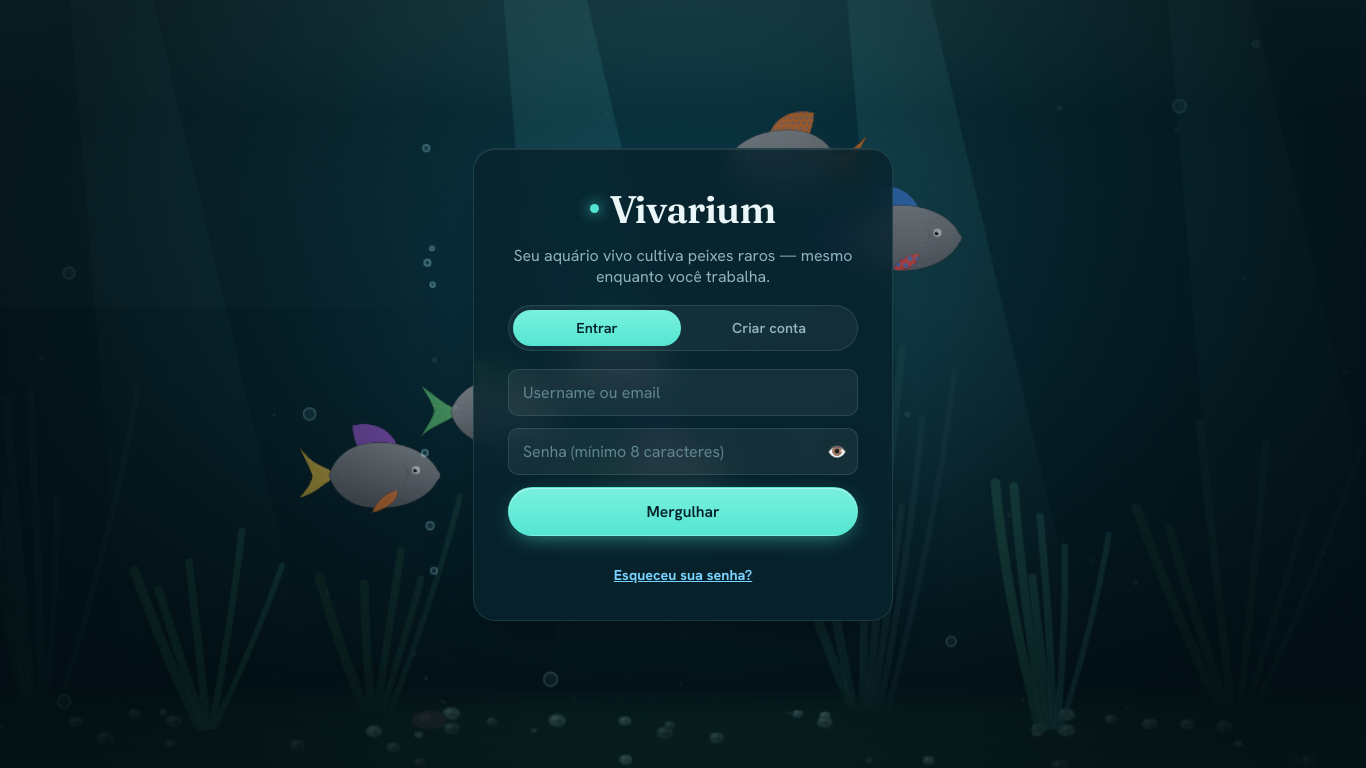
Test: Mochila › mover peixe da mochila pro tanque (deploy)
The image size is (1366, 768).
In the field with placeholder "Username ou email": (683, 393) [508,369,858,416], type "jogador1"
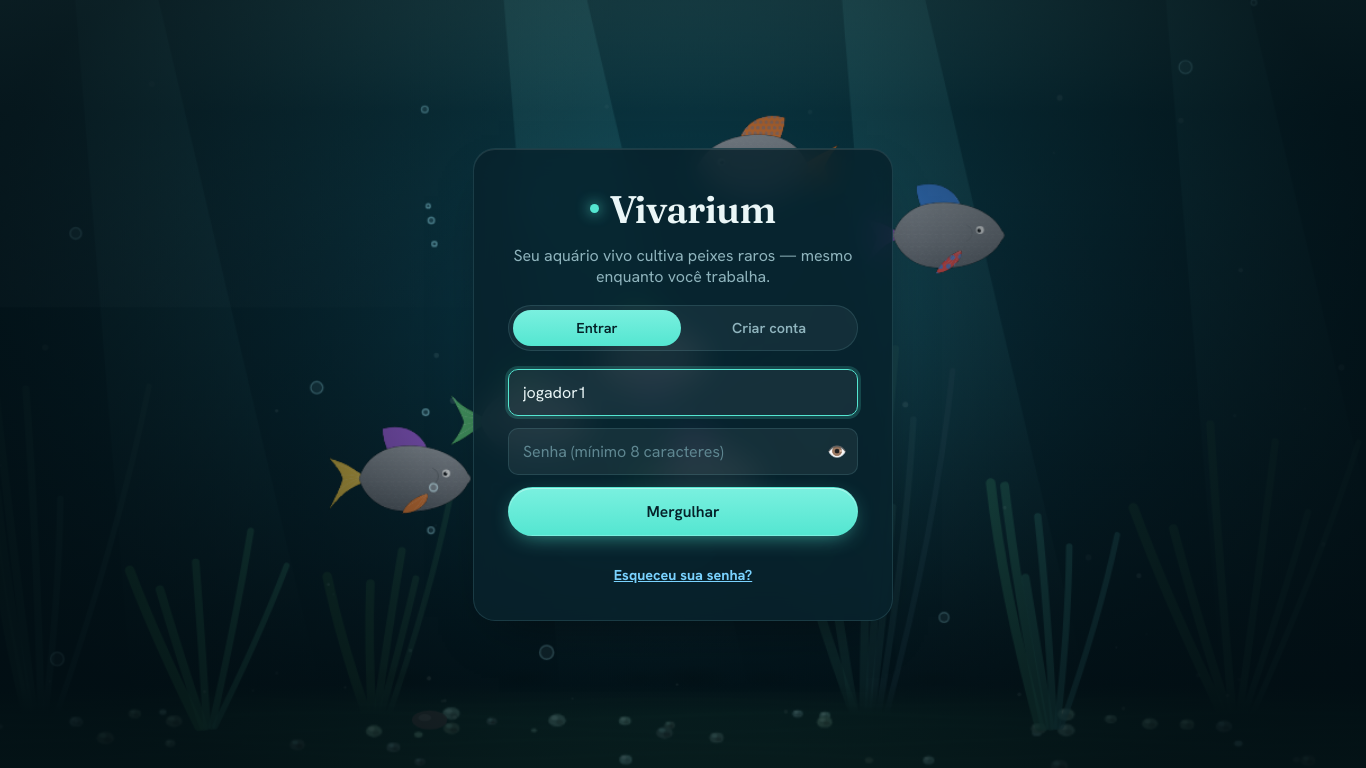
In the password field with placeholder "Senha (mínimo 8 caracteres)": (683, 452) [508,428,858,475], type "senha-forte-123"
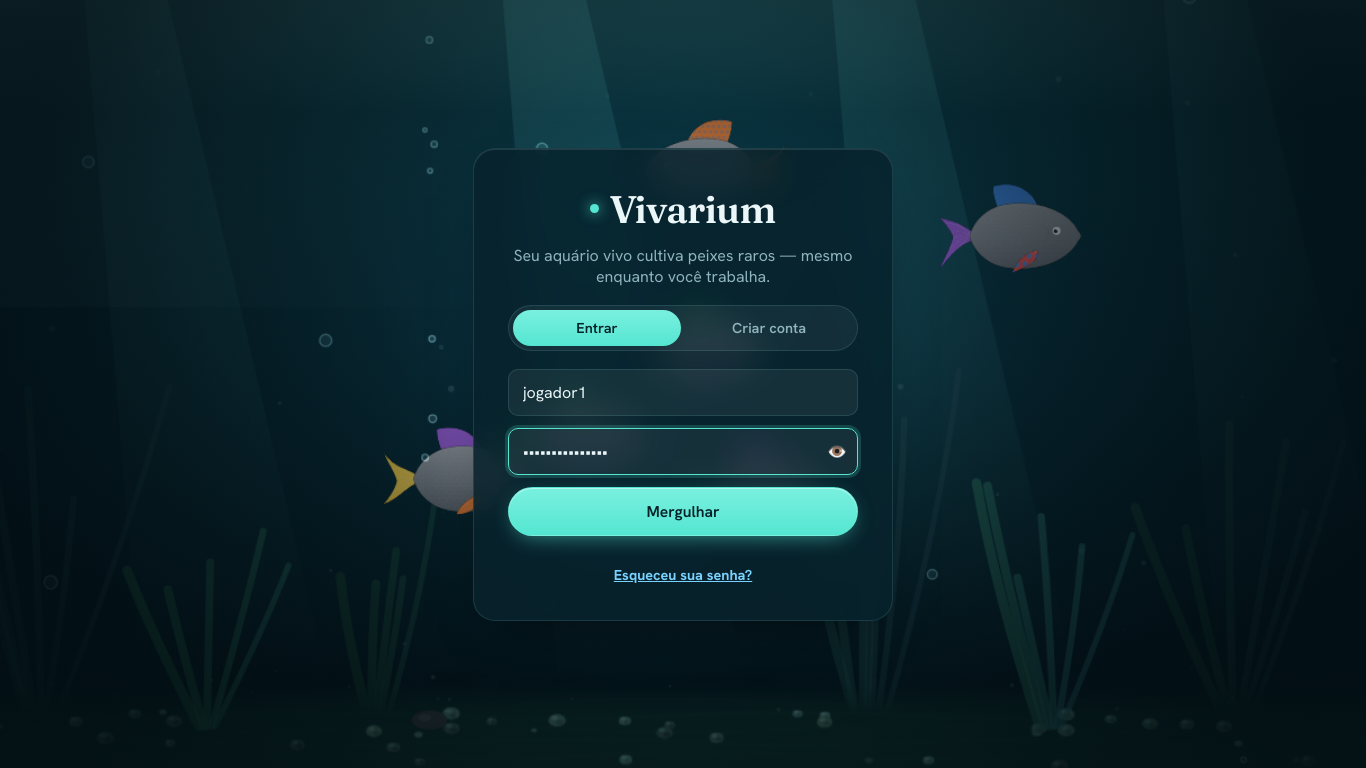
Click the button "Mergulhar": (683, 512) [508,487,858,536]
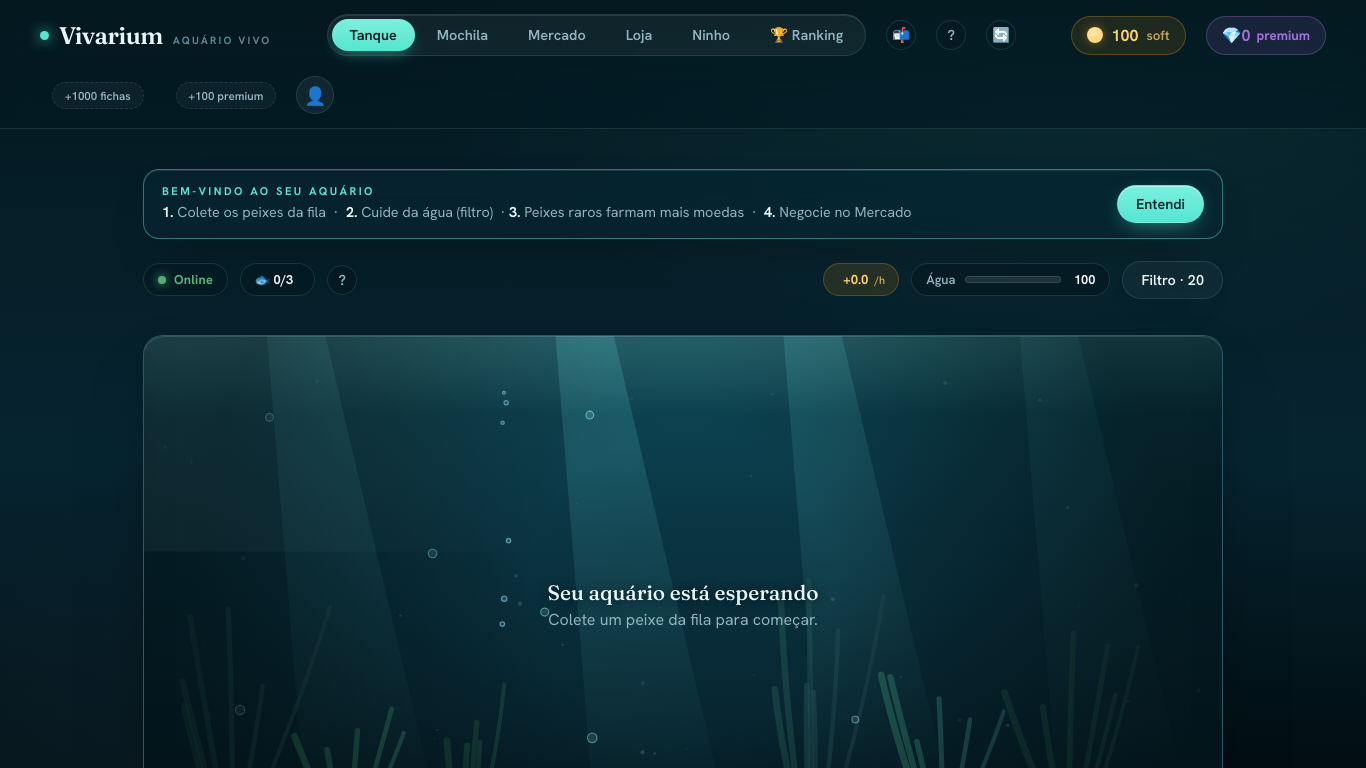
Click the button "Mochila": (463, 35) [419,19,506,51]
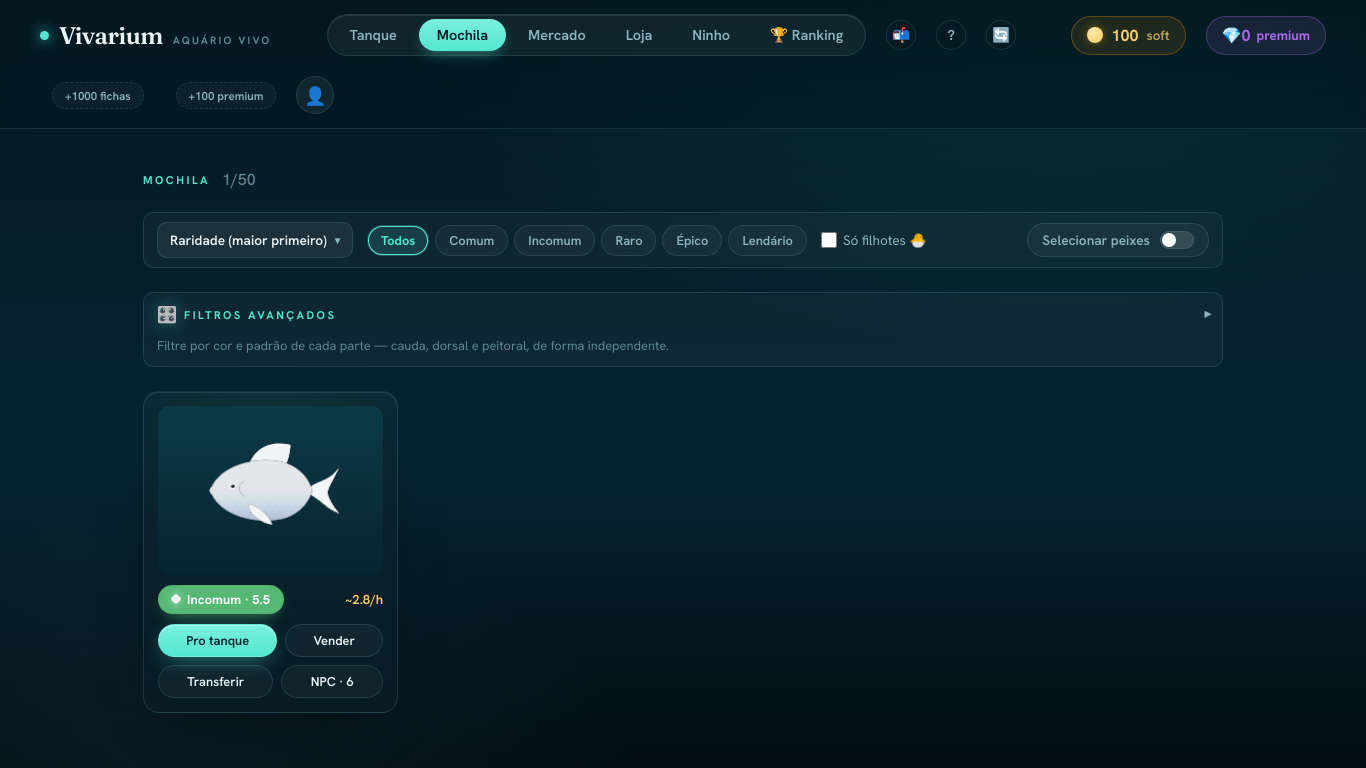
Click the button "Pro tanque": (218, 641) [158,624,277,657]
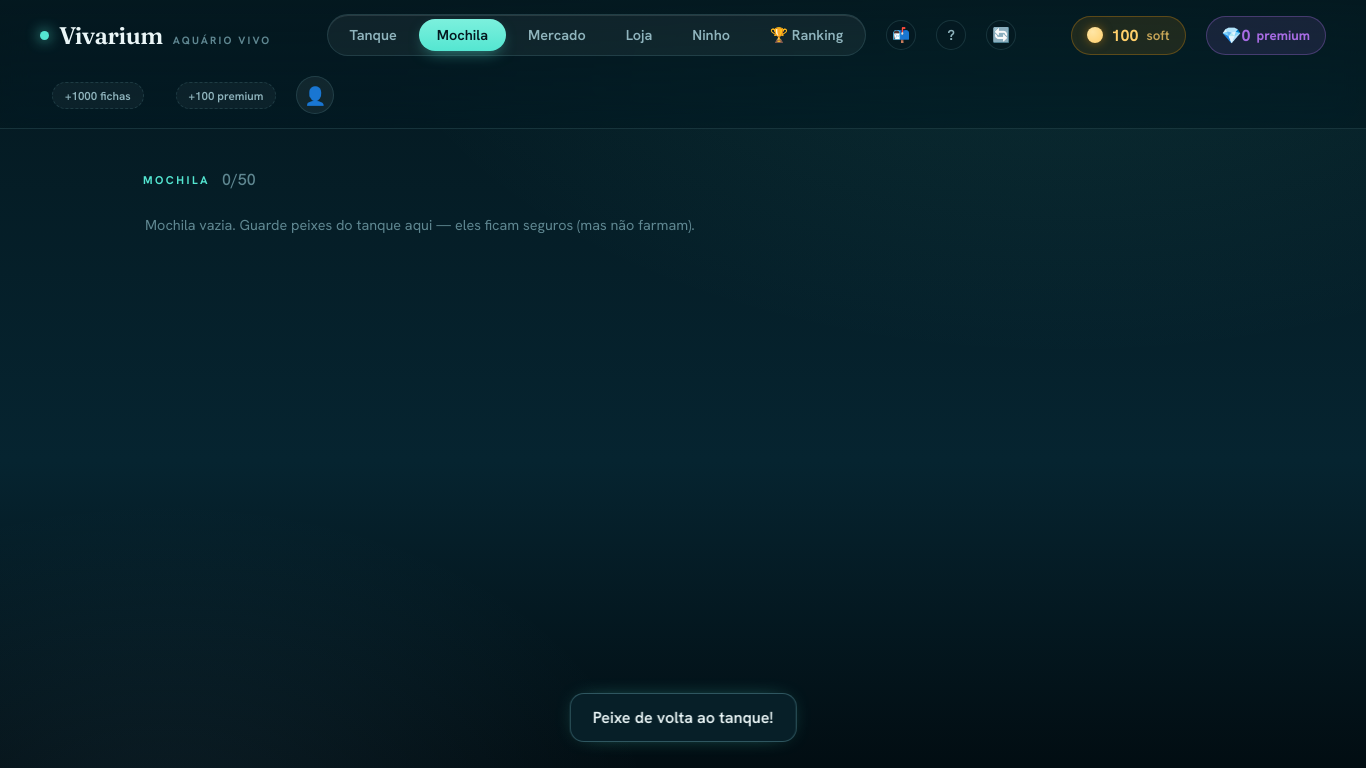
Now the text "Peixe de volta ao tanque!" is shown, box [570,693,796,742]
Now the text "Mochila vazia" is shown, box [145,216,695,234]
